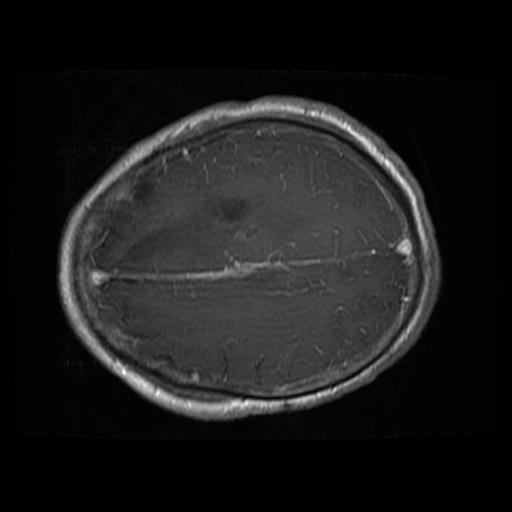glioma: (205, 192, 247, 227)
